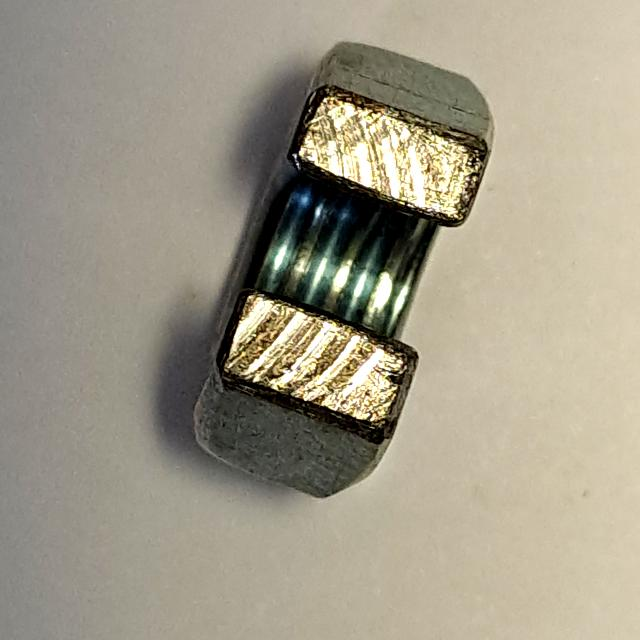Side-Fracture: (171, 25, 516, 519)
